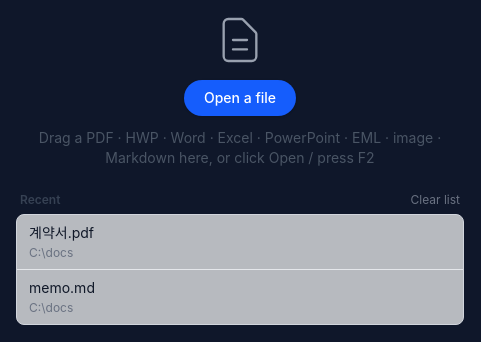
Scenario: StartScreen › clears the list on request
Click the button "Clear list" at (435, 200), box 410,192 -> 460,208
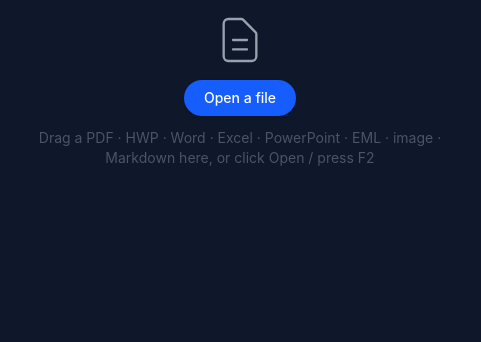
Expected: the button "memo.md" is gone
